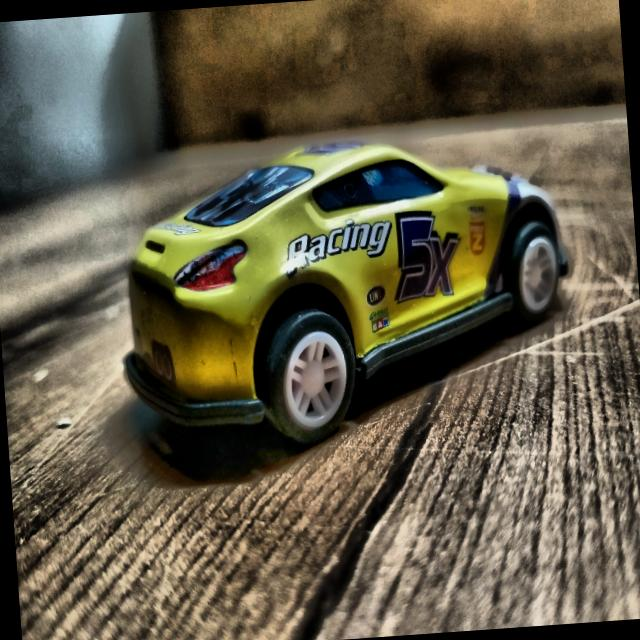Car: (111, 127, 579, 456)
